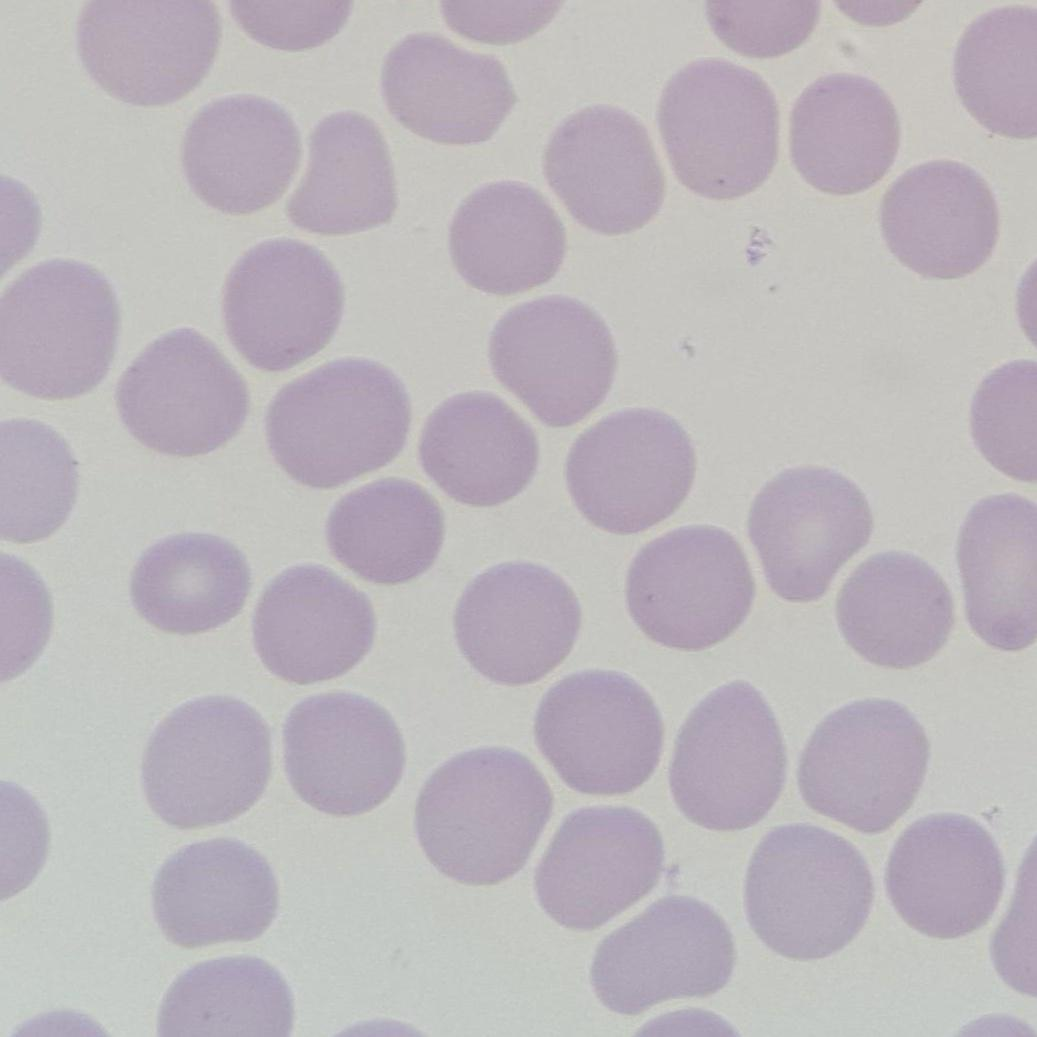Uninfected: (268, 359, 415, 490), (414, 750, 552, 883), (667, 681, 788, 832), (141, 697, 272, 830), (798, 698, 926, 833), (116, 330, 249, 458), (743, 825, 870, 959), (657, 61, 782, 197), (591, 896, 735, 1013), (221, 236, 345, 369), (624, 525, 752, 653), (748, 468, 873, 599), (534, 671, 663, 797), (535, 807, 665, 930), (489, 296, 614, 423), (565, 410, 694, 533), (0, 260, 115, 396), (451, 562, 578, 684), (282, 693, 405, 818), (543, 106, 665, 232), (380, 32, 514, 145), (252, 565, 376, 687), (885, 812, 1001, 938), (419, 391, 543, 506), (880, 156, 998, 276), (181, 95, 298, 214), (79, 2, 214, 105), (289, 112, 401, 236), (153, 839, 278, 948), (835, 552, 950, 670), (446, 180, 564, 294), (788, 75, 899, 193), (325, 476, 444, 585), (130, 532, 249, 636)
